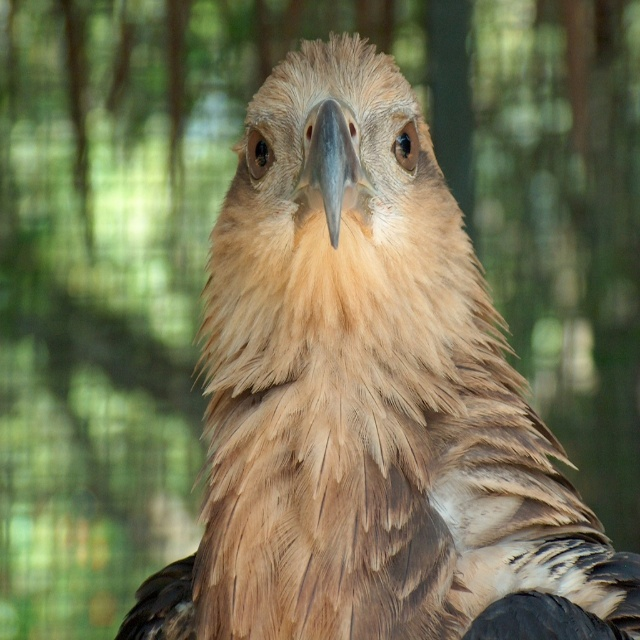Eagle: (116, 32, 640, 639)
